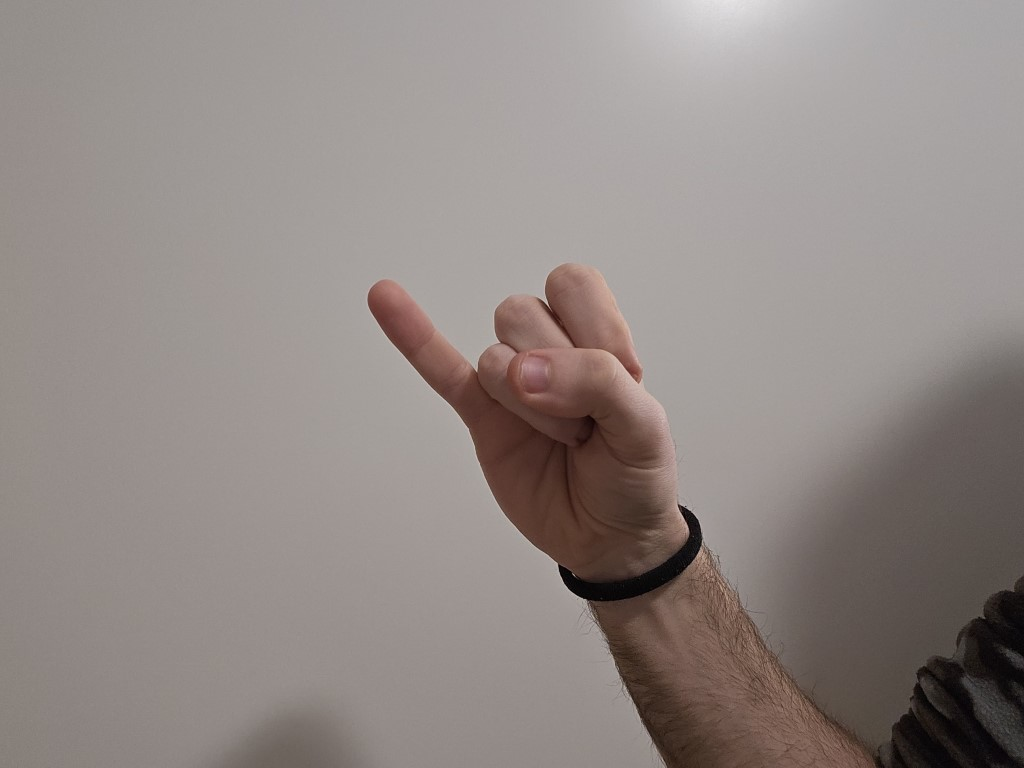j: (342, 236, 687, 555)
